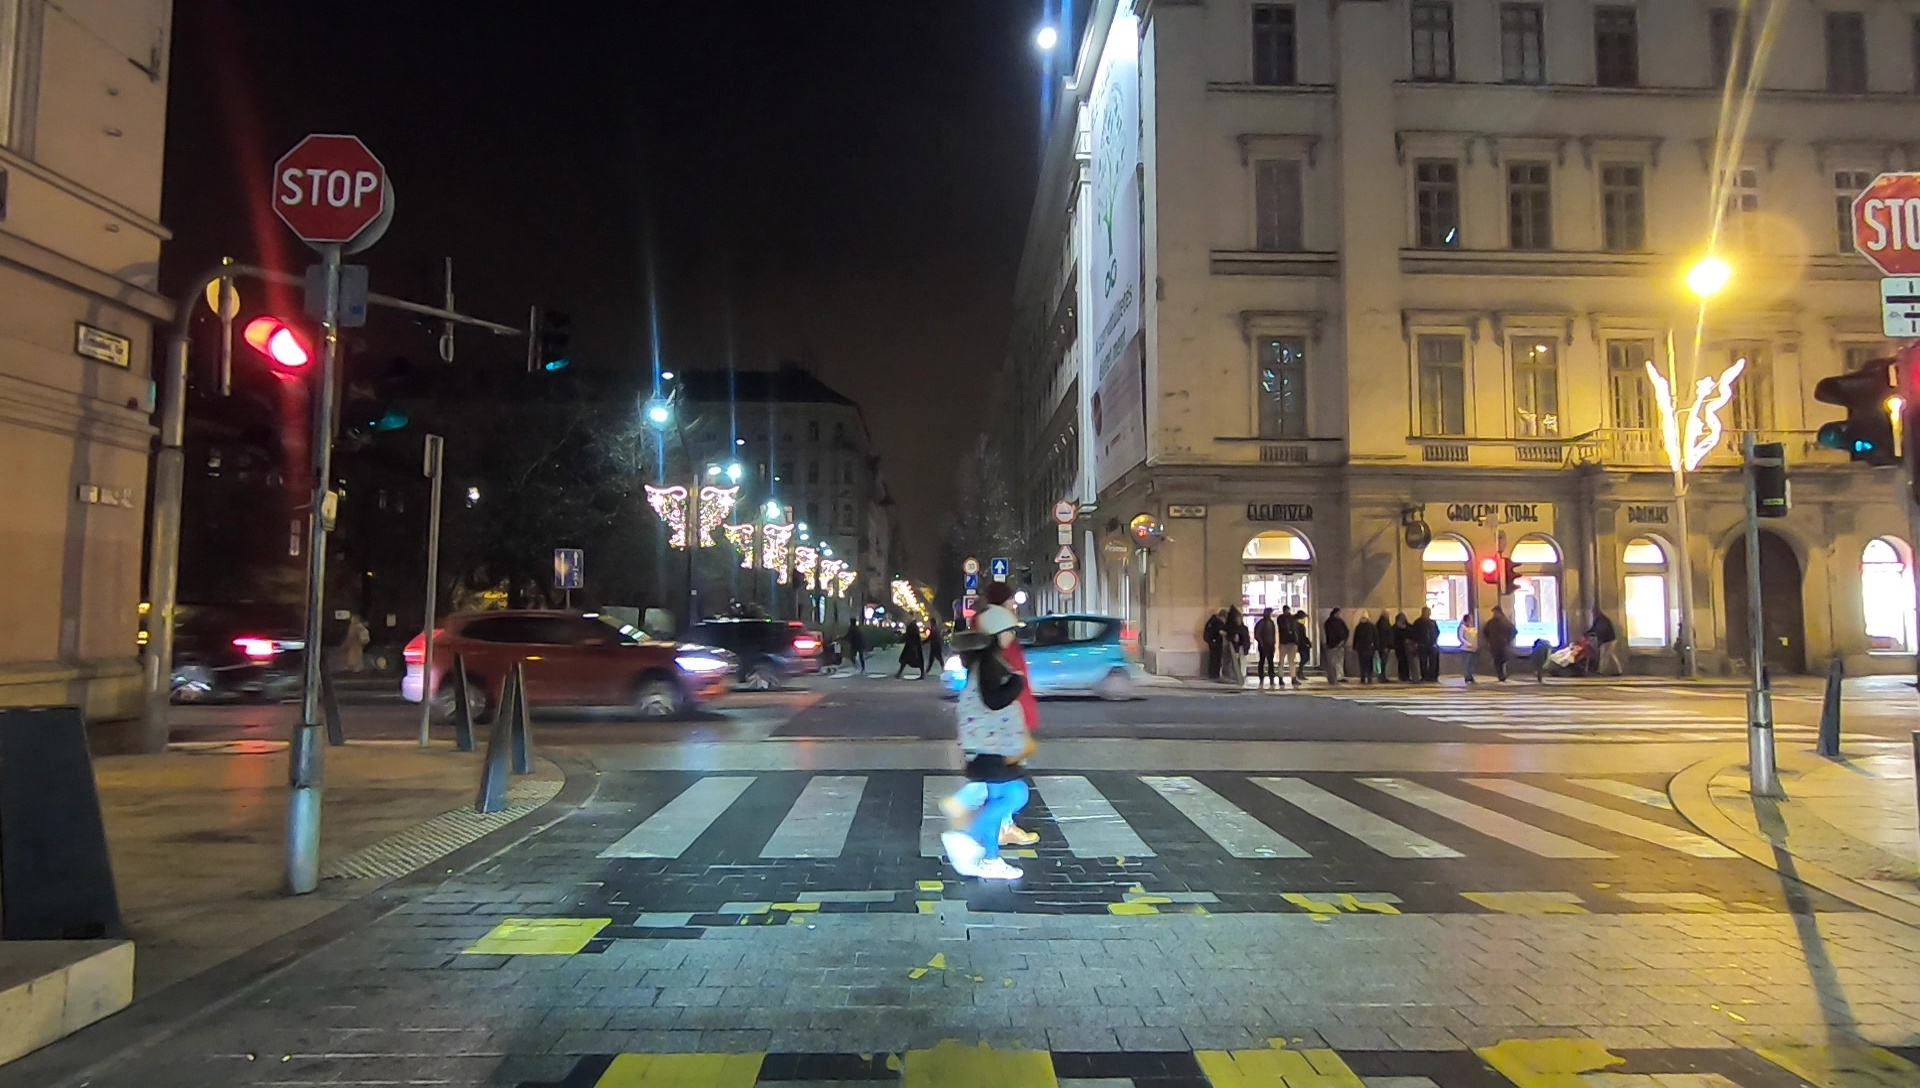person: (943, 613, 1017, 882), (973, 586, 1047, 843), (1588, 611, 1619, 678), (1325, 611, 1352, 687), (895, 613, 923, 680), (1354, 611, 1376, 684), (1395, 615, 1417, 682), (1489, 608, 1512, 671), (1456, 619, 1480, 680), (1256, 613, 1275, 684), (1419, 613, 1439, 682), (1278, 611, 1302, 665), (1378, 621, 1397, 686), (930, 619, 945, 684)
